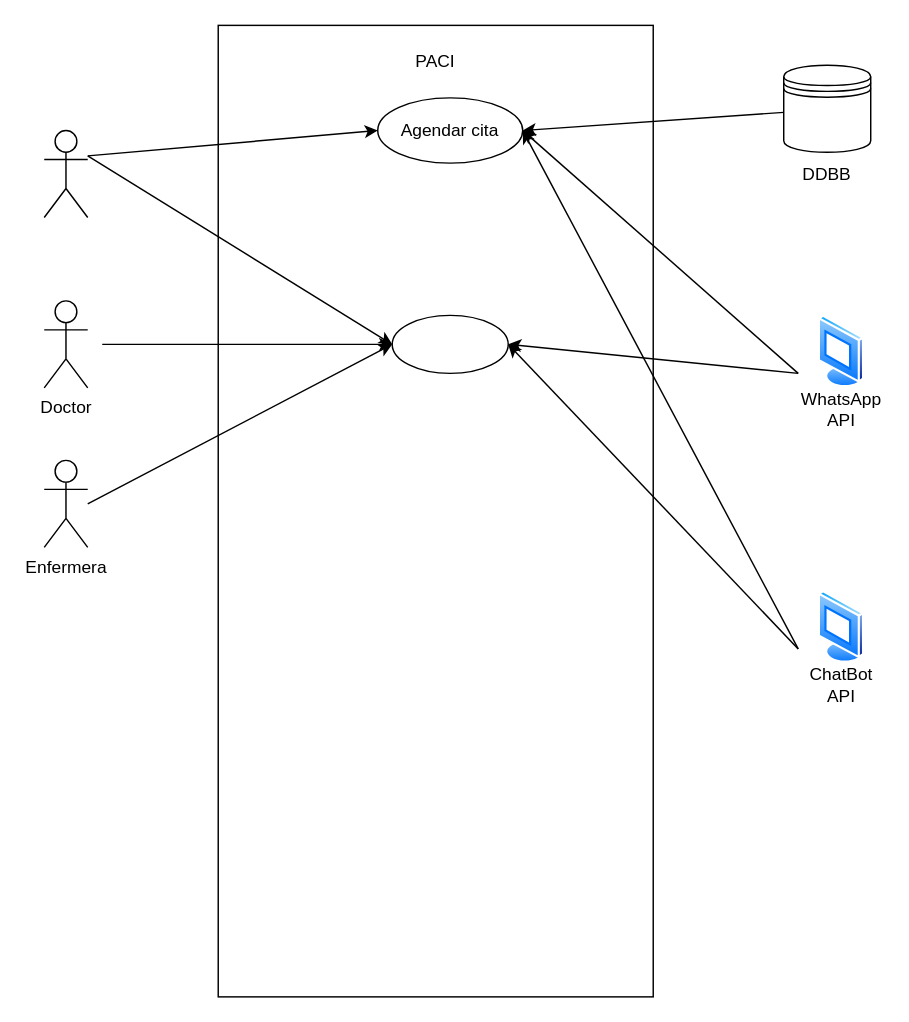
This 909x1022 diagram has some shape labels left out. The shapes that lost their labels are listed below. From the top down, each one's centre as x and y in pixels, then its label:
(65,173): Paciente
(449,343): Handoff
